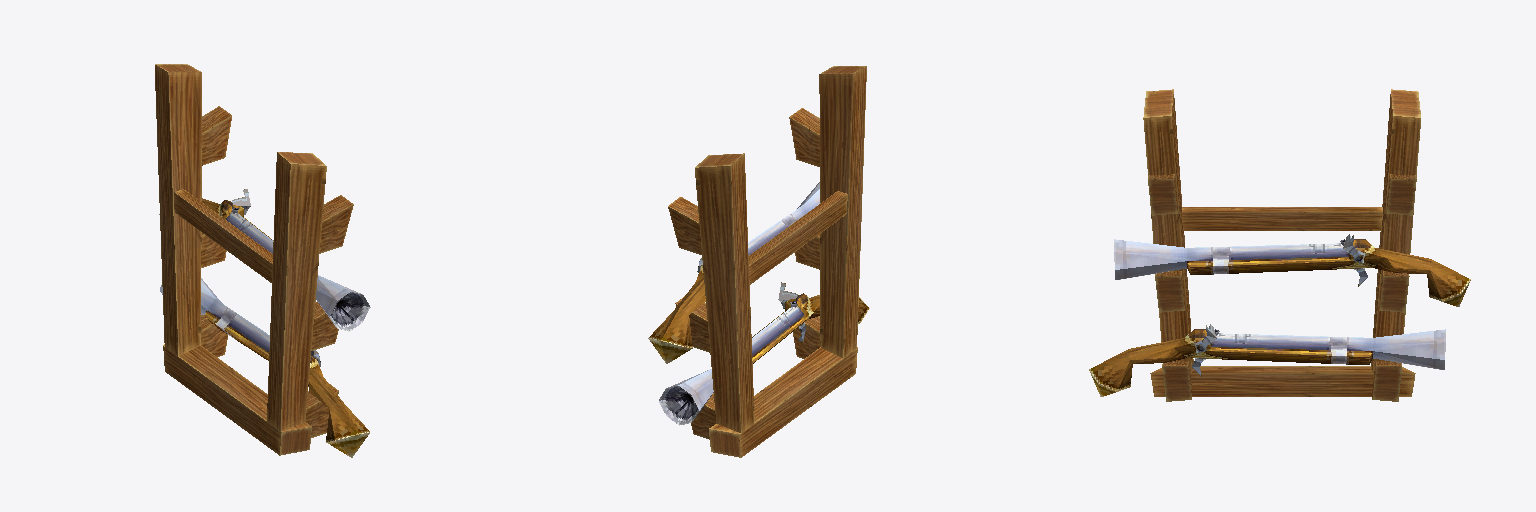
3 renders of one model, left to right at view 1: azimuth 30°, elevation 25°; view 2: azimuth 150°, elevation 25°; view 3: azimuth 270°, elevation 25°, orthographic.
Parts seen in each view (by area): view 1: gunrack01b.m2; view 2: gunrack01b.m2; view 3: gunrack01b.m2.
Part boxes in pixels (bbox=[...]): gunrack01b.m2: bbox=[155, 64, 370, 457]; gunrack01b.m2: bbox=[648, 66, 869, 457]; gunrack01b.m2: bbox=[1089, 89, 1470, 401].
Size of the model in its own units: 0.3431 by 1.54 by 1.77.
2 materials, 2 textured.